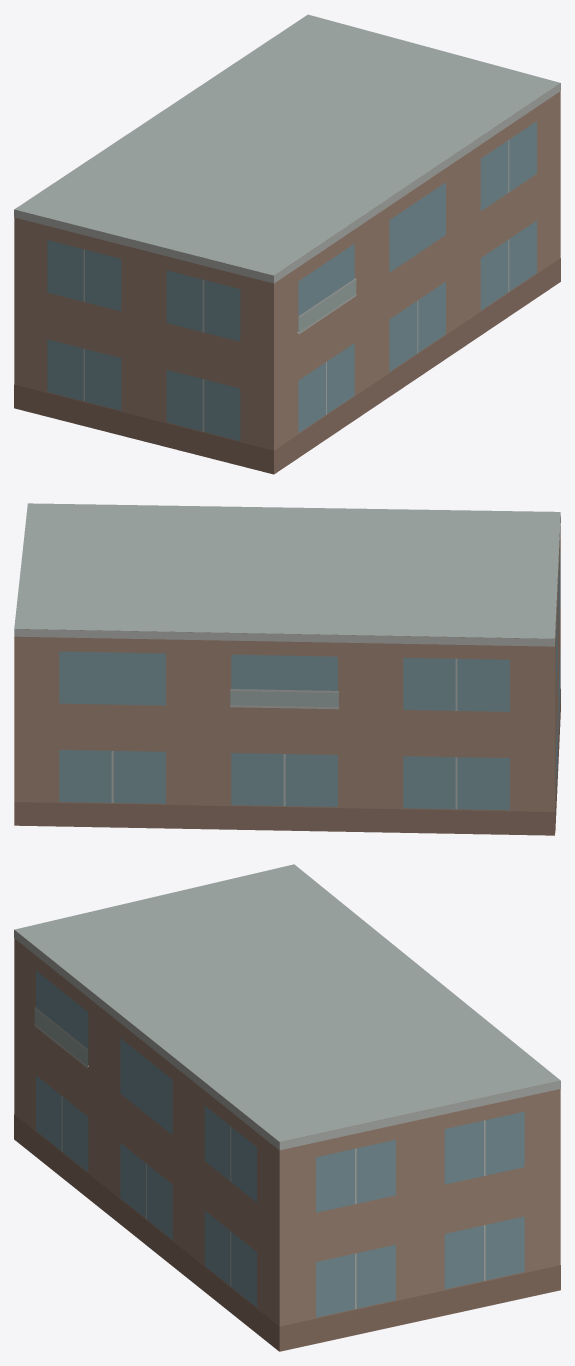
The model's file is survey-upis-32704884.glb.
The picture shows the model from 3 angles, top to bottom: view 1: azimuth 30°, elevation 25°; view 2: azimuth 150°, elevation 25°; view 3: azimuth 270°, elevation 25°; orthographic projection. The views are drawn at different scales.
Parts seen in each view (by area): view 1: survey-upis-32704884.tmp; view 2: survey-upis-32704884.tmp; view 3: survey-upis-32704884.tmp.
Boxes of the visible parts, x1,y1,x2,y2 form: survey-upis-32704884.tmp: [14, 14, 560, 474]; survey-upis-32704884.tmp: [14, 503, 560, 835]; survey-upis-32704884.tmp: [14, 864, 560, 1351].
Bounding box in the file's own units: 17.34 × 6.1 × 14.42.
